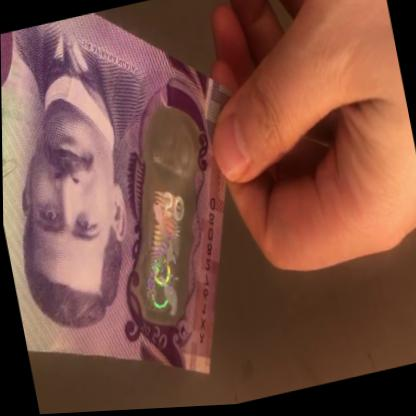50F: (111, 121, 222, 328)
